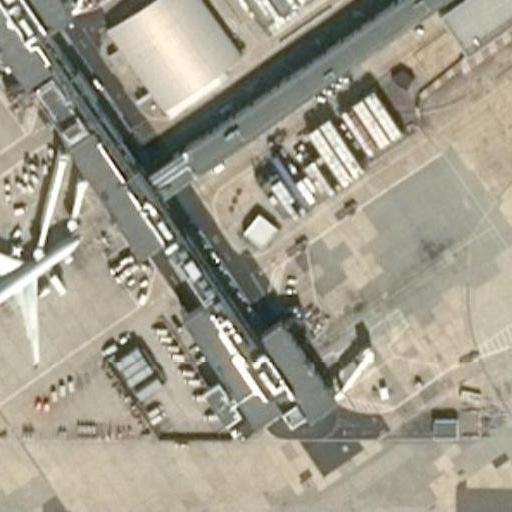Aircraft: (0, 217, 85, 361)
